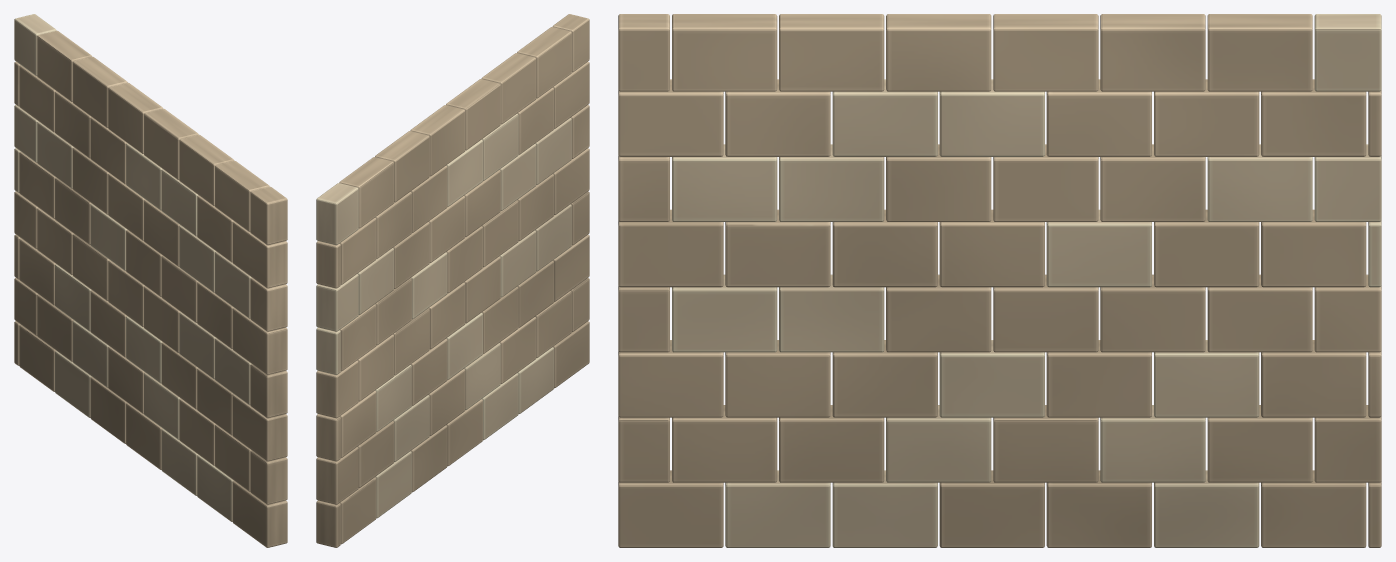
File: 02_Left_Stone_Wall.fbx
The picture shows the model from 3 angles, left to right: view 1: azimuth 30°, elevation 25°; view 2: azimuth 150°, elevation 25°; view 3: azimuth 270°, elevation 25°; orthographic projection. The views are drawn at different scales.
Visible parts, largest first — view 1: 02_Left_Stone_Wall; view 2: 02_Left_Stone_Wall; view 3: 02_Left_Stone_Wall.
Boxes of the visible parts, x1,y1,x2,y2 form: 02_Left_Stone_Wall: (14,14,287,547); 02_Left_Stone_Wall: (316,14,589,547); 02_Left_Stone_Wall: (618,14,1381,547).
Size of the model in its own units: 24 by 375 by 499.
Materials: 1 (1 with a texture image).
